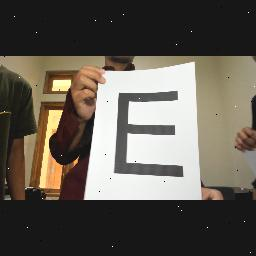e: (110, 86, 190, 180)
